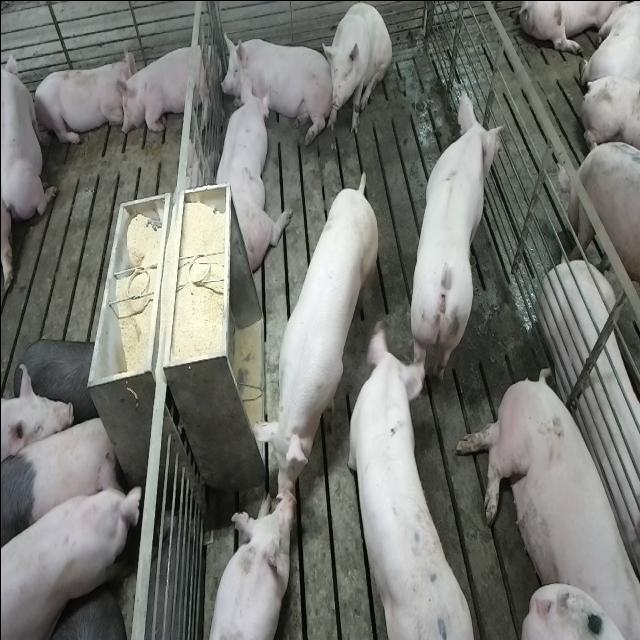Lateral_lying: (454, 368, 636, 640), (538, 260, 640, 578), (14, 332, 103, 423)
Sitting: (324, 2, 392, 138)
Standing: (344, 312, 478, 636), (254, 174, 379, 486), (407, 85, 502, 388), (2, 470, 142, 640), (557, 142, 640, 362), (2, 411, 120, 561)
Sternal_lying: (210, 84, 284, 274), (202, 488, 292, 638), (220, 29, 327, 134), (116, 38, 215, 138), (31, 51, 130, 150), (3, 42, 56, 224)
